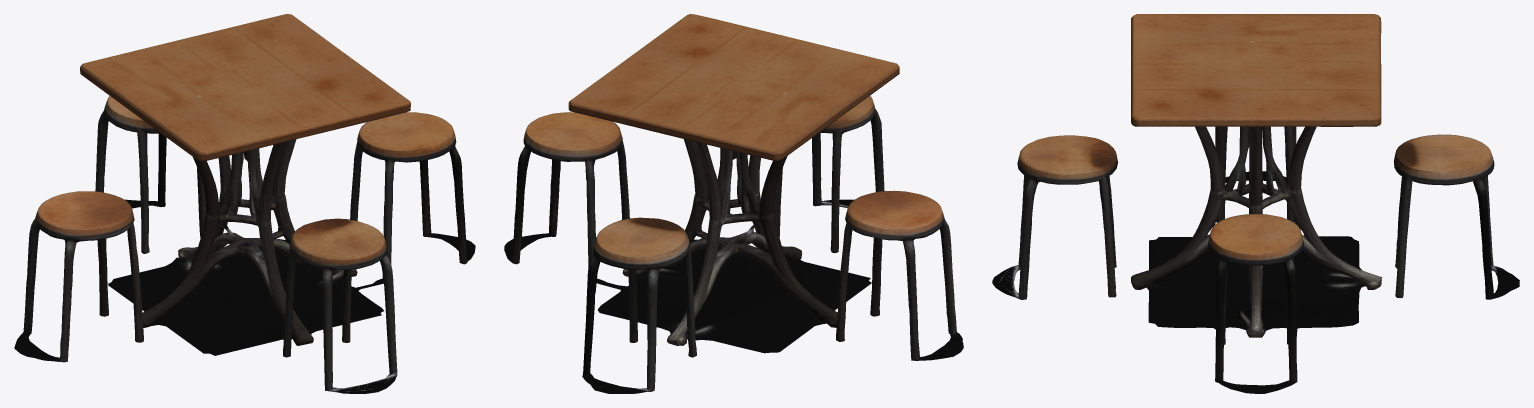
The picture shows the model from 3 angles, left to right: view 1: azimuth 30°, elevation 25°; view 2: azimuth 150°, elevation 25°; view 3: azimuth 270°, elevation 25°; orthographic projection.
Visible parts, largest first — view 1: world.003; view 2: world.003; view 3: world.003.
Part boxes in pixels (x1=…): world.003: x1=14, y1=14, x2=475, y2=393; world.003: x1=504, y1=14, x2=963, y2=393; world.003: x1=992, y1=14, x2=1519, y2=393.
Bounding box in the file's own units: 99.98 × 46.17 × 99.95.
Materials: 1 (1 with a texture image).
